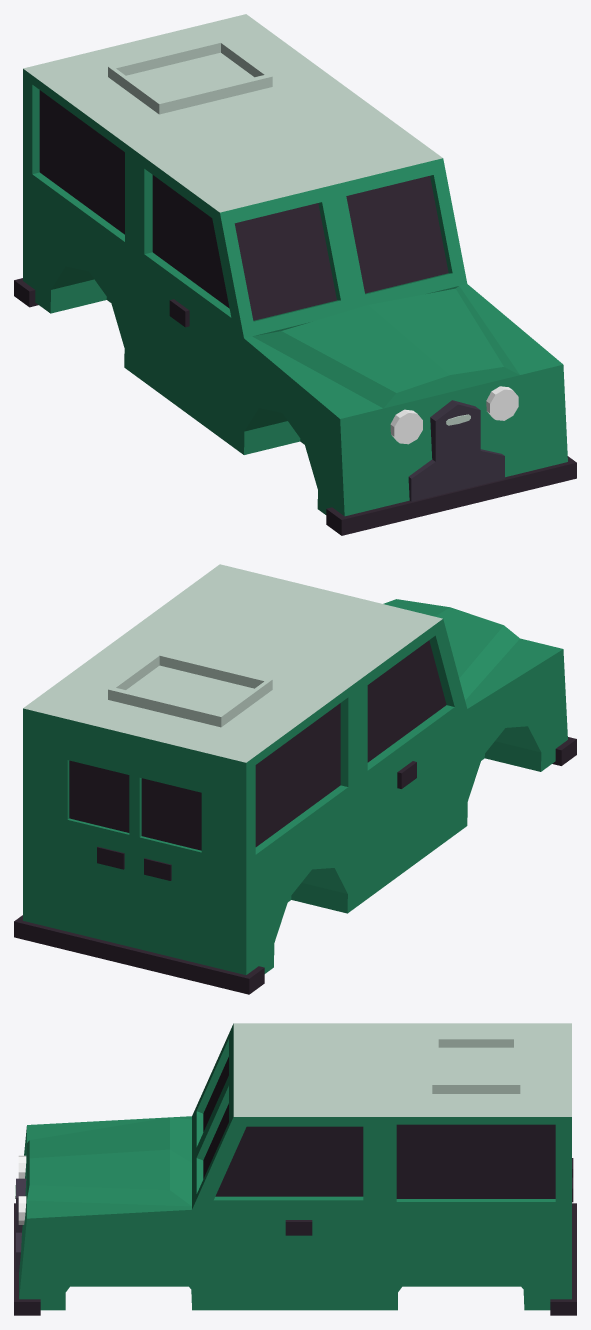
Rendered from Jeep.fbx.
3 renders of one model, top to bottom at view 1: azimuth 30°, elevation 25°; view 2: azimuth 150°, elevation 25°; view 3: azimuth 270°, elevation 25°, orthographic. The views are drawn at different scales.
Visible parts, largest first — view 1: Jeep; view 2: Jeep; view 3: Jeep.
Boxes of the visible parts, <box> form: Jeep: <box>14,14,576,535</box>; Jeep: <box>14,564,576,994</box>; Jeep: <box>14,1023,576,1315</box>.
Bounding box in the file's own units: 2.11 × 2.04 × 5.08.
